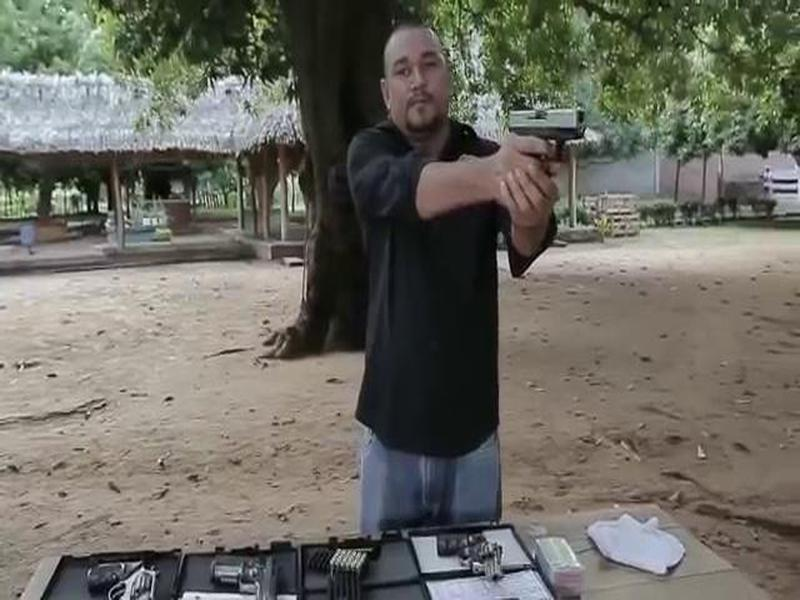Pistola: (489, 87, 623, 172)
